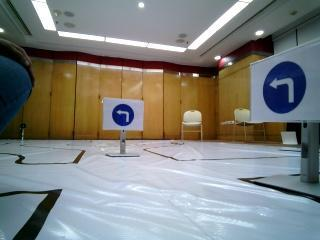left: (253, 56, 320, 110), (107, 99, 144, 129)
